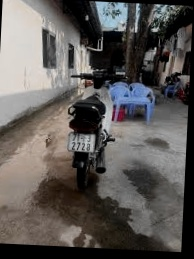Bien-so: (68, 132, 98, 153)
